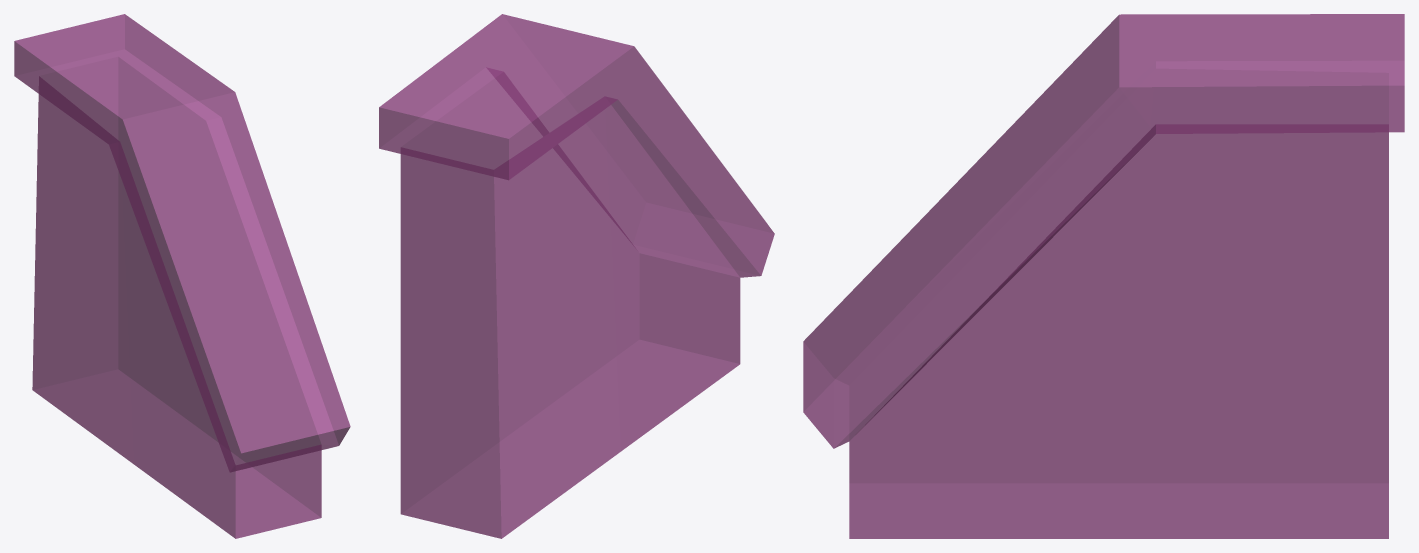
Rendered from SM_Bld_Buttress_Pillar_03_Collision.fbx.
3 renders of one model, left to right at view 1: azimuth 30°, elevation 25°; view 2: azimuth 150°, elevation 25°; view 3: azimuth 270°, elevation 25°, orthographic. The views are drawn at different scales.
Parts seen in each view (by area): view 1: SM_Bld_Buttress_Pillar_03_Collision; view 2: SM_Bld_Buttress_Pillar_03_Collision; view 3: SM_Bld_Buttress_Pillar_03_Collision.
Part boxes in pixels (<box>): SM_Bld_Buttress_Pillar_03_Collision: <box>14,14,350,538</box>; SM_Bld_Buttress_Pillar_03_Collision: <box>379,14,774,538</box>; SM_Bld_Buttress_Pillar_03_Collision: <box>803,14,1404,538</box>.
Size of the model in its own units: 107 by 315 by 372.
